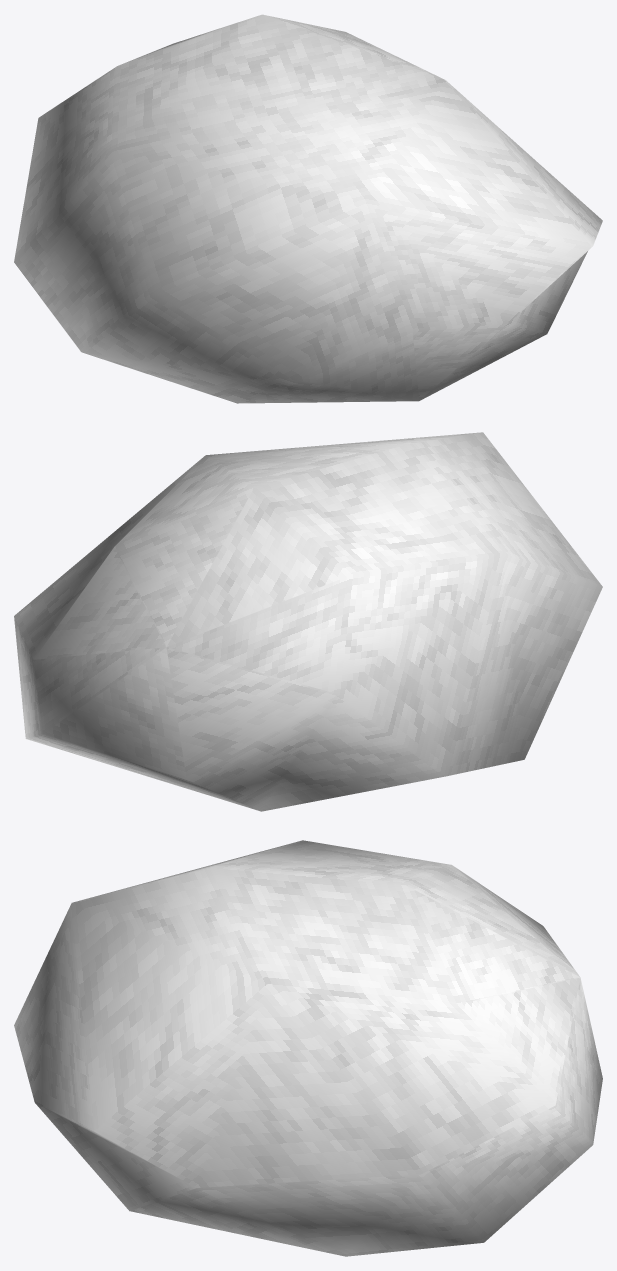
File: wool.obj
The picture shows the model from 3 angles, top to bottom: view 1: azimuth 30°, elevation 25°; view 2: azimuth 150°, elevation 25°; view 3: azimuth 270°, elevation 25°; orthographic projection.
Visible parts, largest first — view 1: Sphere03; view 2: Sphere03; view 3: Sphere03.
Boxes of the visible parts, left/top/right/bottom form: Sphere03: left=14, top=14, right=602, bottom=403; Sphere03: left=14, top=432, right=602, bottom=811; Sphere03: left=14, top=840, right=602, bottom=1256.
Bounding box in the file's own units: 18.38 × 11.24 × 20.19.
